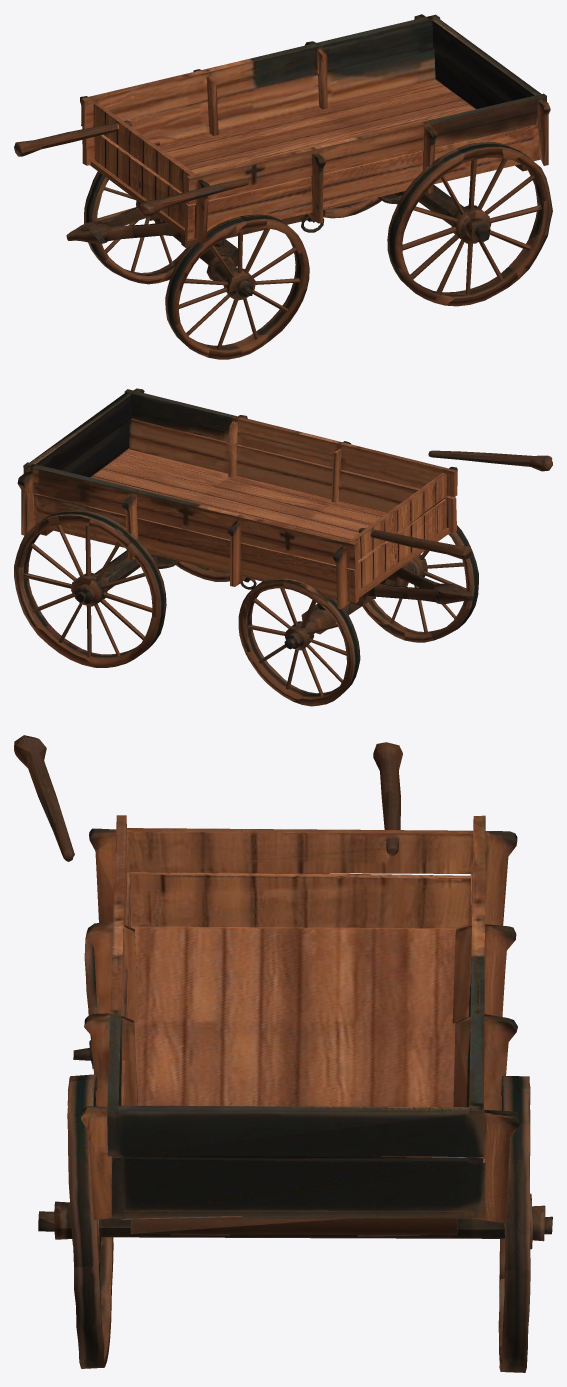
Rendered from market-cart.glb.
3 views of the same model, one above another, from view 1: azimuth 30°, elevation 25°; view 2: azimuth 150°, elevation 25°; view 3: azimuth 270°, elevation 25° (orthographic). The views are drawn at different scales.
Bounding box in the file's own units: 2.2 × 0.9589 × 1.36.
Materials: 1 (1 with a texture image).
